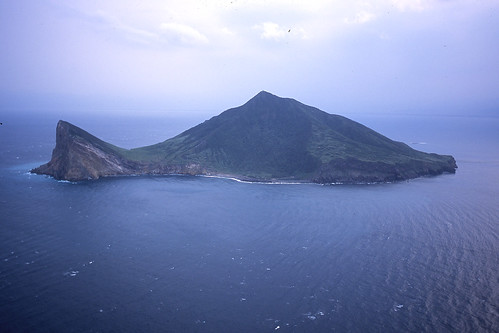turtleIslandLeft: (36, 79, 468, 193)
